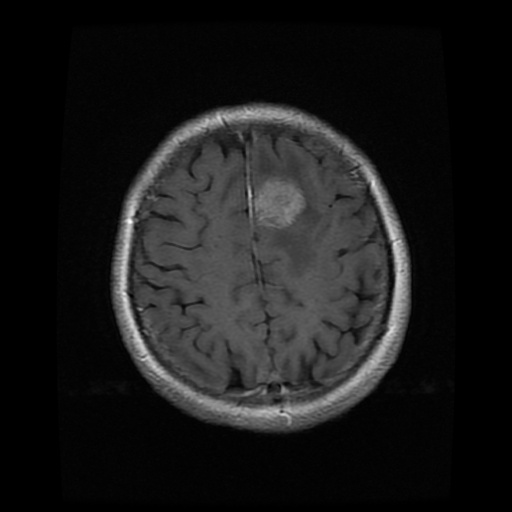meningioma: (256, 176, 301, 223)
